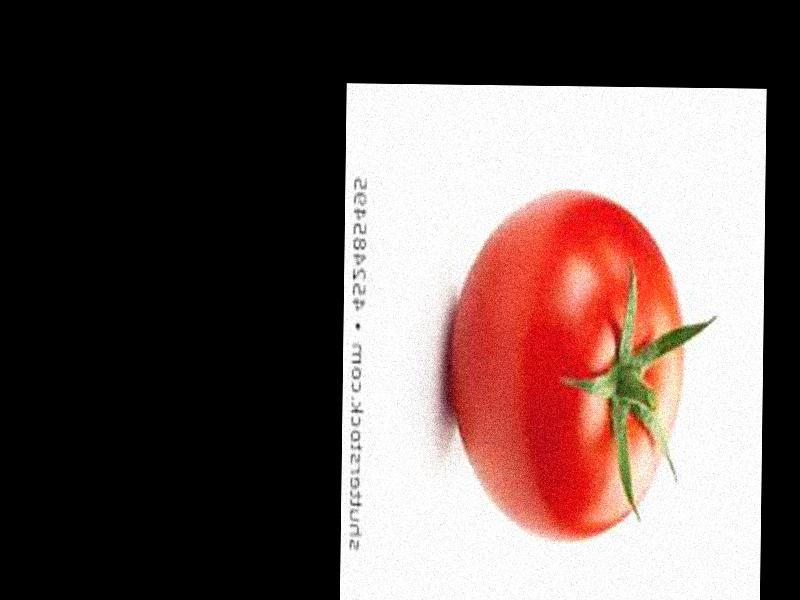Tomato: (446, 193, 685, 538)
